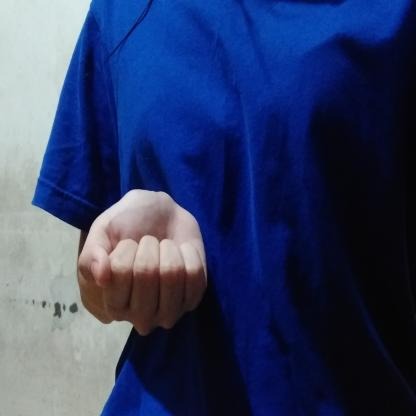where: (64, 188, 218, 346)
